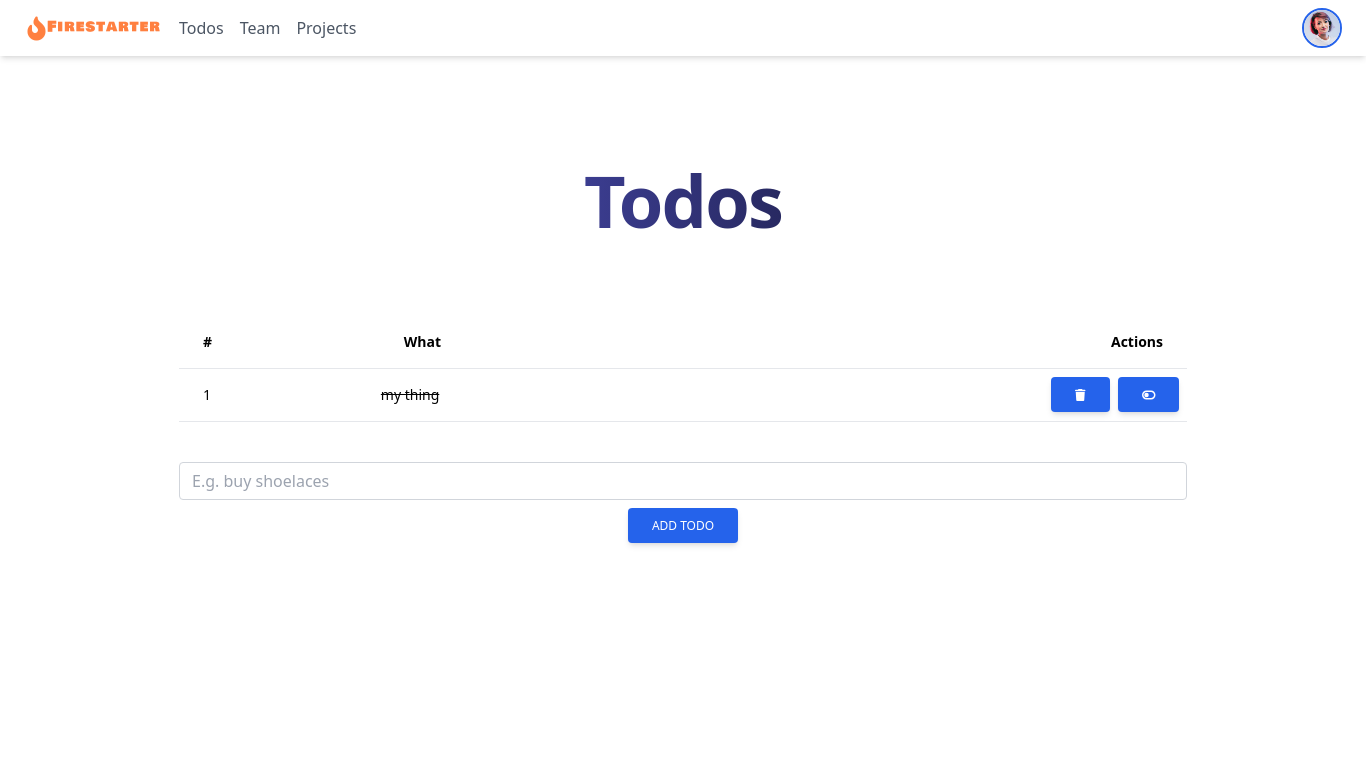
Todos › it can add a todo
The image size is (1366, 768).
Type "Buy Milk" into the field.
click(683, 481); type("Buy Milk")  # box [179,462,1187,500]
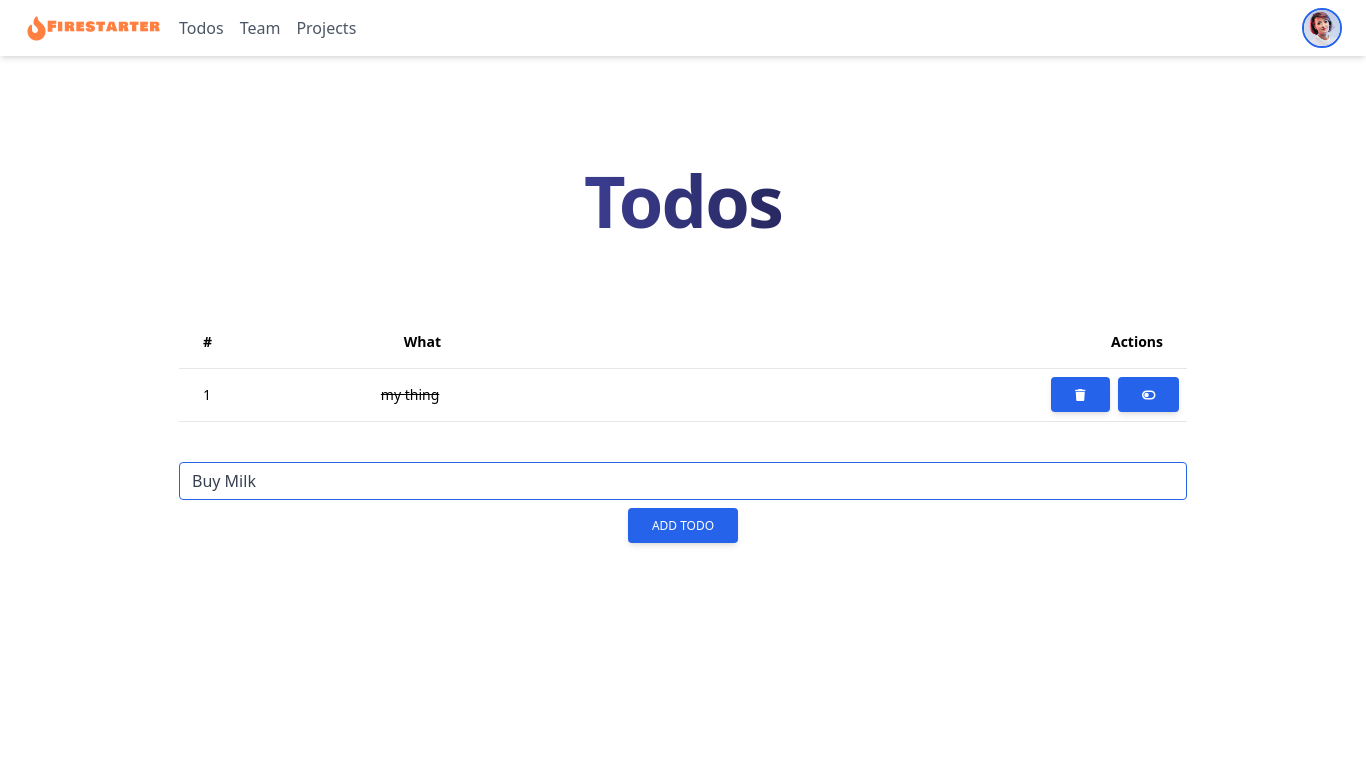
Click the button "Add Todo".
click(683, 526)  # box [628,508,738,543]
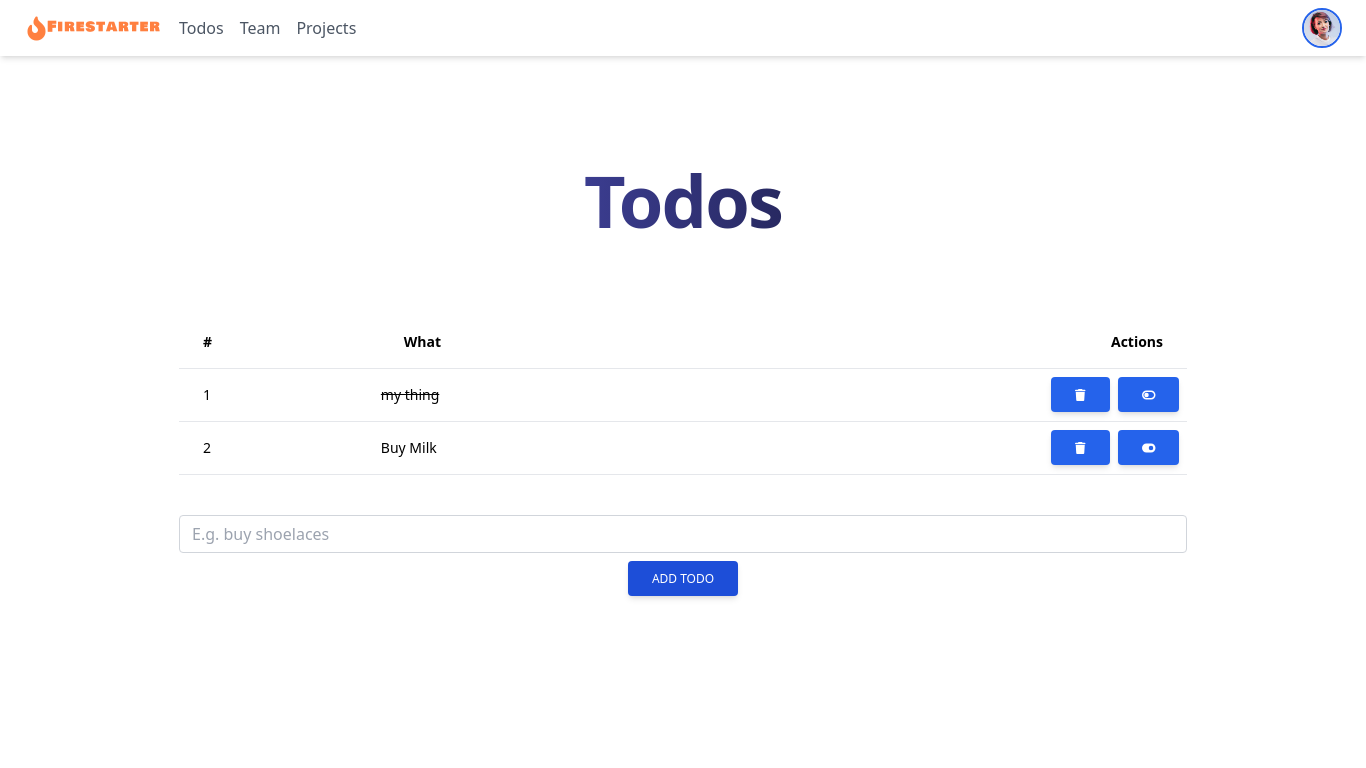
Expected: the number of rows is 3, [179,316,1187,368]; [179,368,1187,422]; [179,422,1187,474]
Expected: the cell "Buy Milk" is shown, [380,422,680,474]
